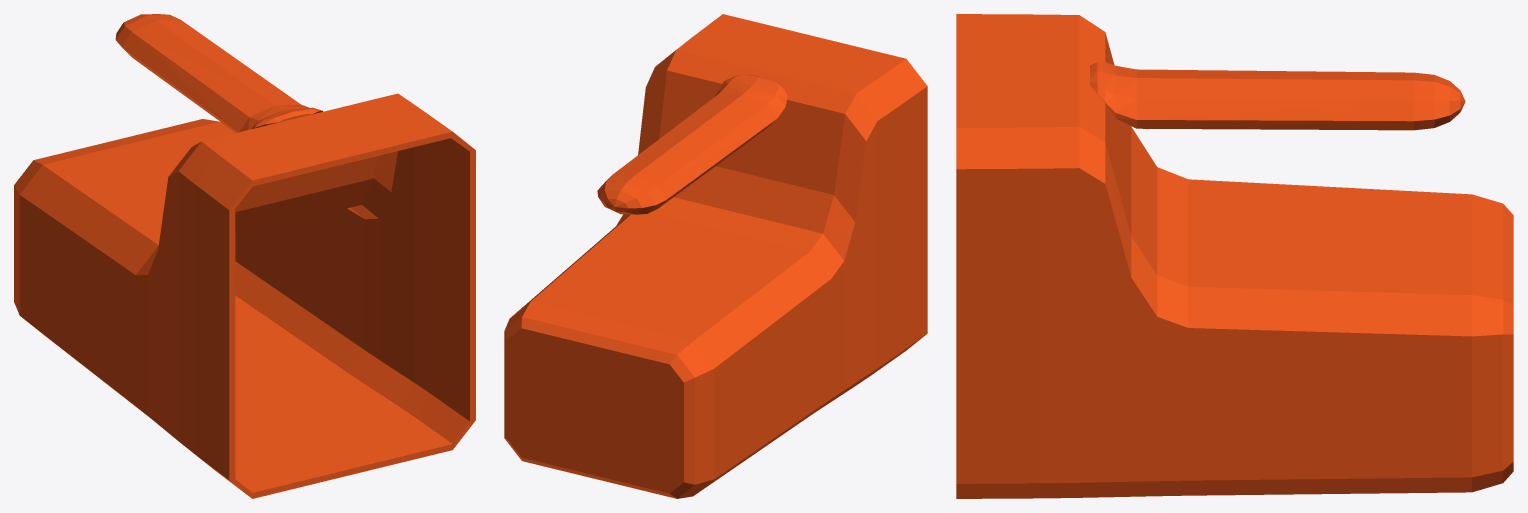
3 views of the same model, side by side, from view 1: azimuth 30°, elevation 25°; view 2: azimuth 150°, elevation 25°; view 3: azimuth 270°, elevation 25° (orthographic). The views are drawn at different scales.
Visible parts, largest first — view 1: Joined_hollow_bailer; view 2: Joined_hollow_bailer; view 3: Joined_hollow_bailer.
Boxes of the visible parts, x1,y1,x2,y2 form: Joined_hollow_bailer: (14, 14, 475, 498); Joined_hollow_bailer: (504, 14, 927, 498); Joined_hollow_bailer: (956, 14, 1513, 498).
Bounding box in the file's own units: 0.128 × 0.158 × 0.215.
